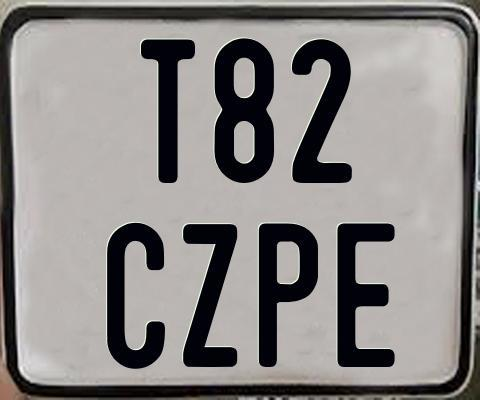2: (292, 36, 352, 183)
8: (211, 37, 277, 182)
C: (104, 221, 164, 369)
E: (336, 222, 397, 372)
P: (257, 223, 318, 367)
T: (141, 37, 198, 181)
Z: (180, 222, 237, 371)
